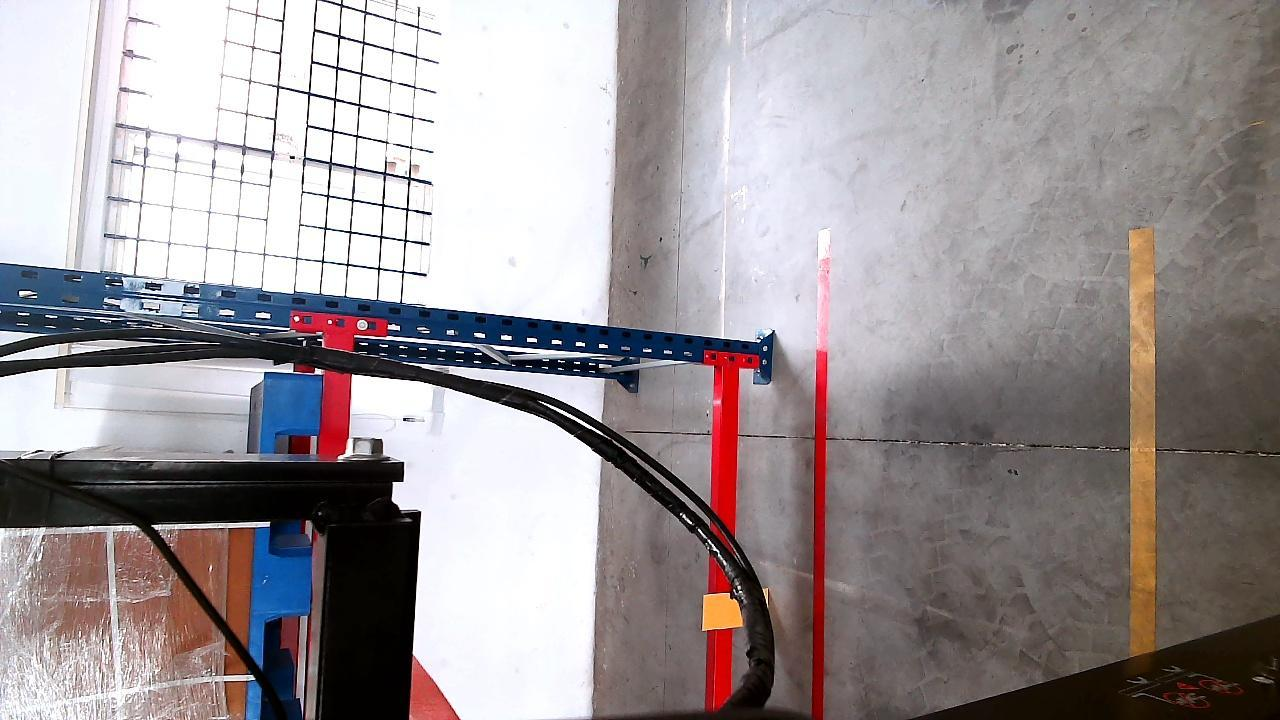red_line: (810, 229, 831, 715)
yellow_line: (1130, 223, 1160, 662)
